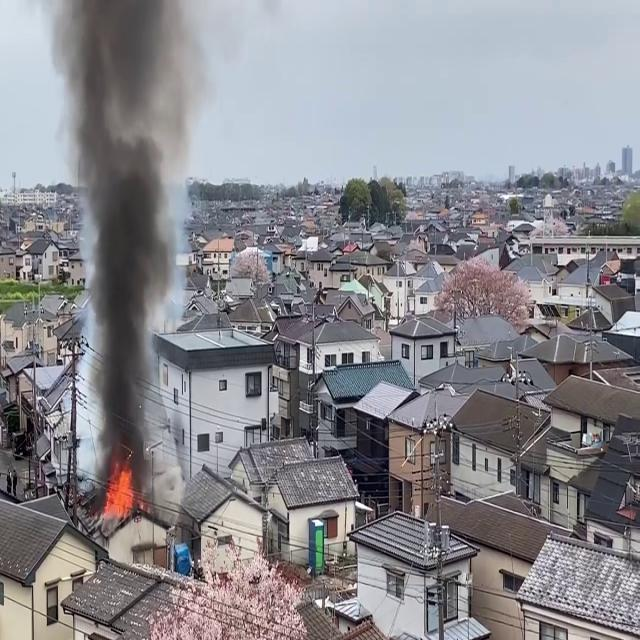Fire: (101, 456, 137, 524)
Smoke: (58, 0, 197, 490)
